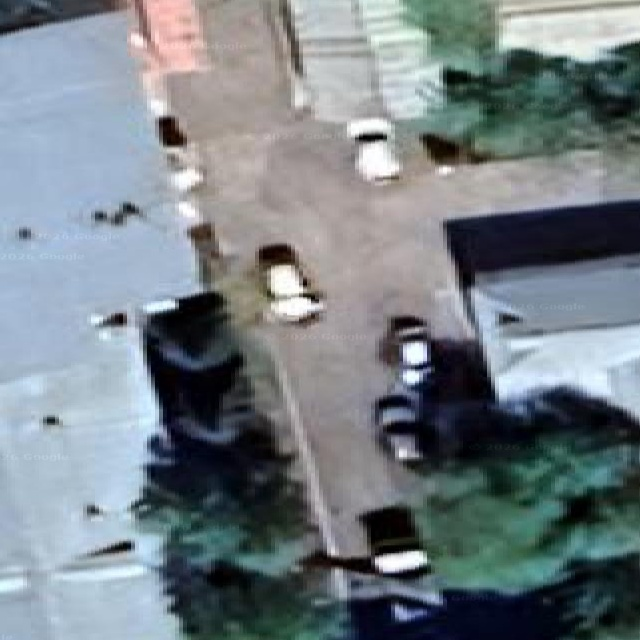car: (257, 244, 324, 322), (347, 118, 400, 183)
